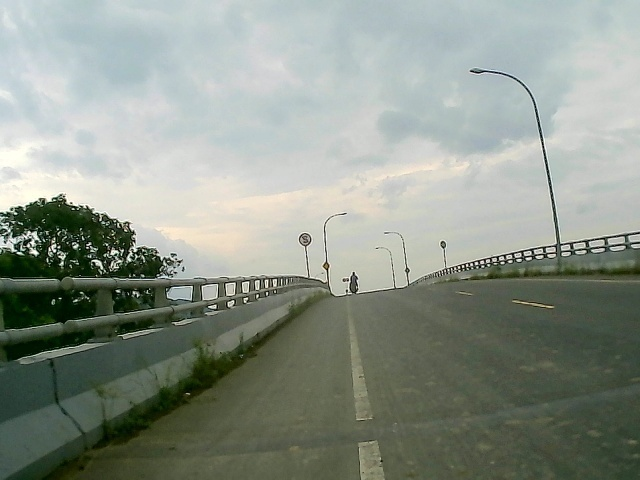Dilarang berhenti: (299, 231, 311, 247)
